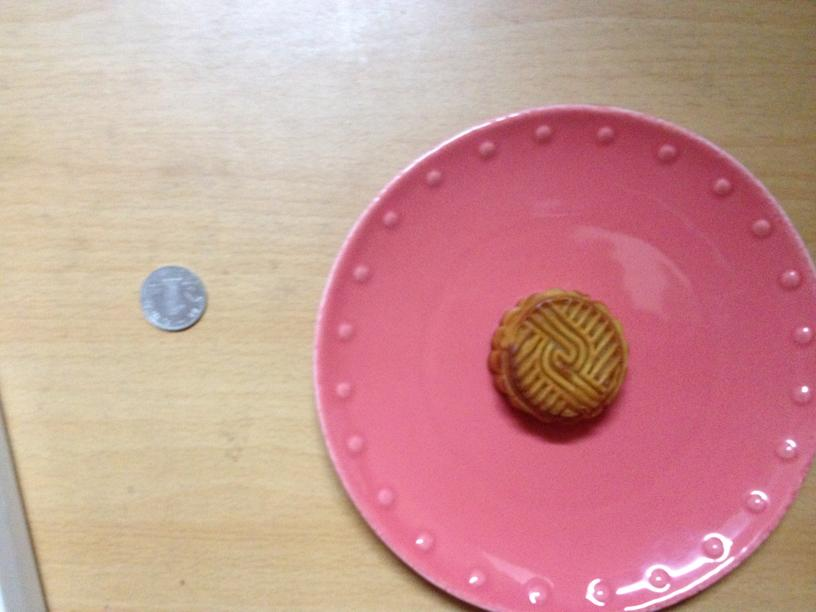coin: (136, 266, 207, 329)
mooncake: (484, 288, 627, 424)
